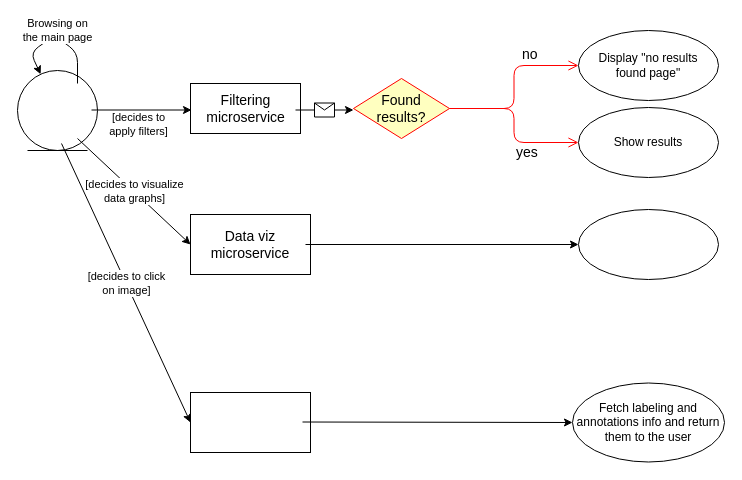
Image size: 742x480. Some labels were removed from this diagram. Here are the shapes that lost their labels. From the top down, the box of each, then its label:
(16, 70, 98, 150): Web App
(578, 208, 718, 280): Prepare graphs and show on screen
(190, 392, 310, 452): Image info microservice
